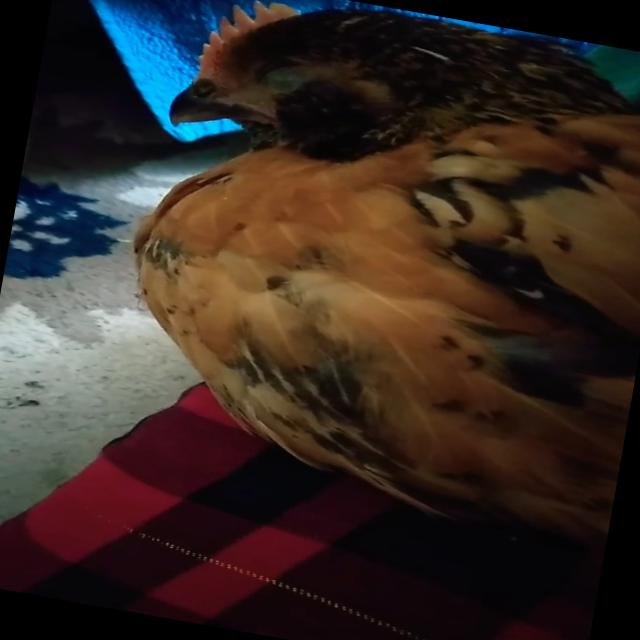sleeping chickens: (71, 0, 640, 562)
